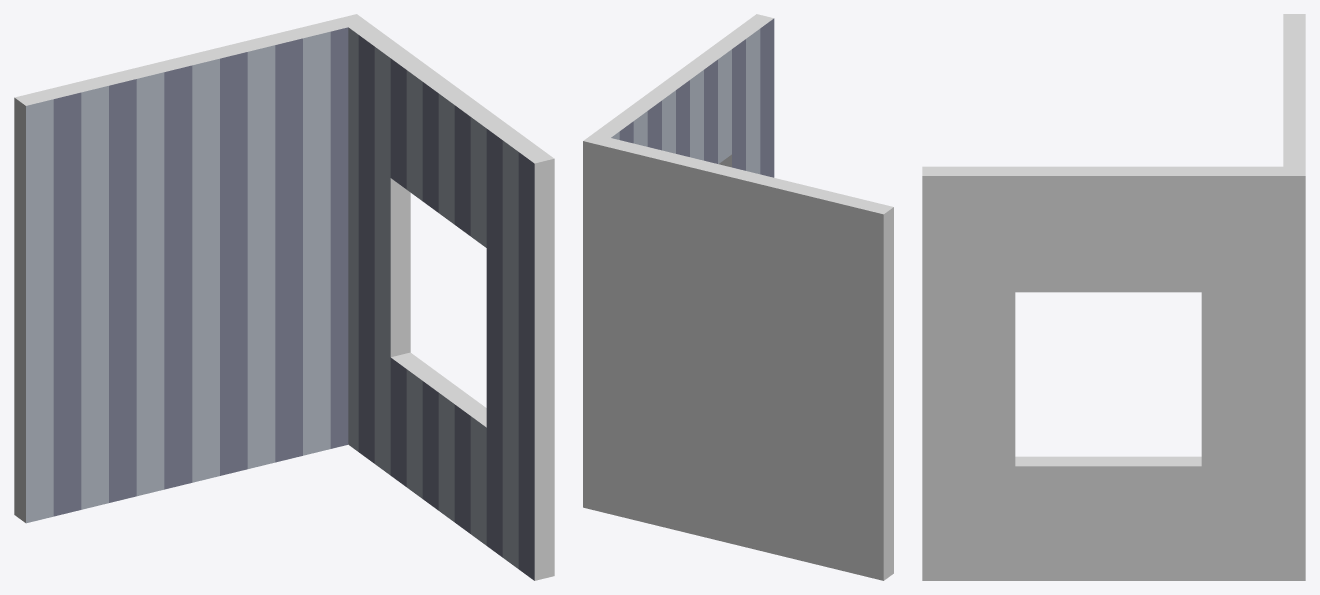
The model's file is Wall1_C8_11.fbx.
3 renders of one model, left to right at view 1: azimuth 30°, elevation 25°; view 2: azimuth 150°, elevation 25°; view 3: azimuth 270°, elevation 25°, orthographic. The views are drawn at different scales.
Parts seen in each view (by area): view 1: Wall1_C8_11; view 2: Wall1_C8_11; view 3: Wall1_C8_11.
Boxes of the visible parts, x1,y1,x2,y2 form: Wall1_C8_11: (14,14,554,580); Wall1_C8_11: (583,14,893,580); Wall1_C8_11: (922,14,1305,580).
Size of the model in its own units: 258 by 300 by 258.
